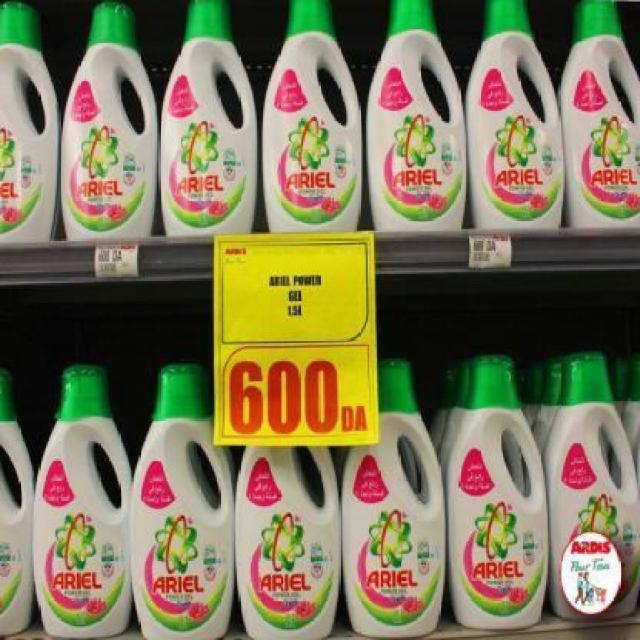Detergent: (124, 357, 236, 639), (338, 357, 447, 639), (26, 361, 132, 639), (443, 357, 547, 639), (541, 350, 640, 616), (362, 0, 470, 234), (157, 0, 260, 238), (365, 0, 468, 229), (263, 2, 363, 236), (60, 0, 154, 235), (468, 0, 560, 234), (233, 447, 339, 639), (559, 0, 639, 238), (0, 0, 58, 238)
